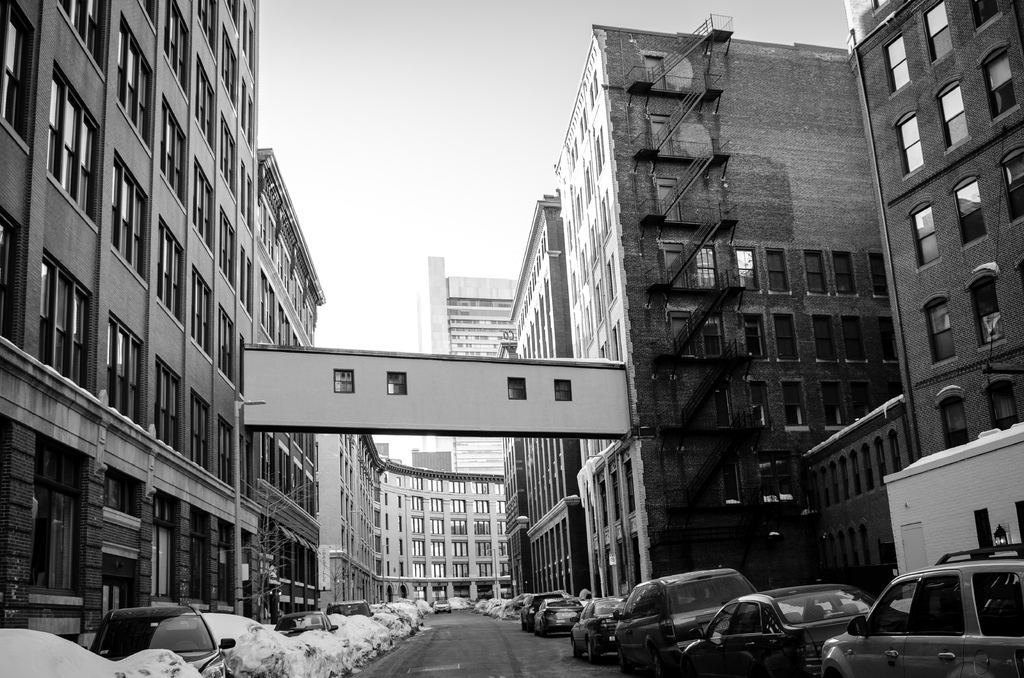Car: (0, 547, 1023, 677), (516, 540, 1023, 677), (85, 606, 236, 677), (272, 607, 335, 638), (325, 599, 376, 619), (430, 599, 451, 611)
